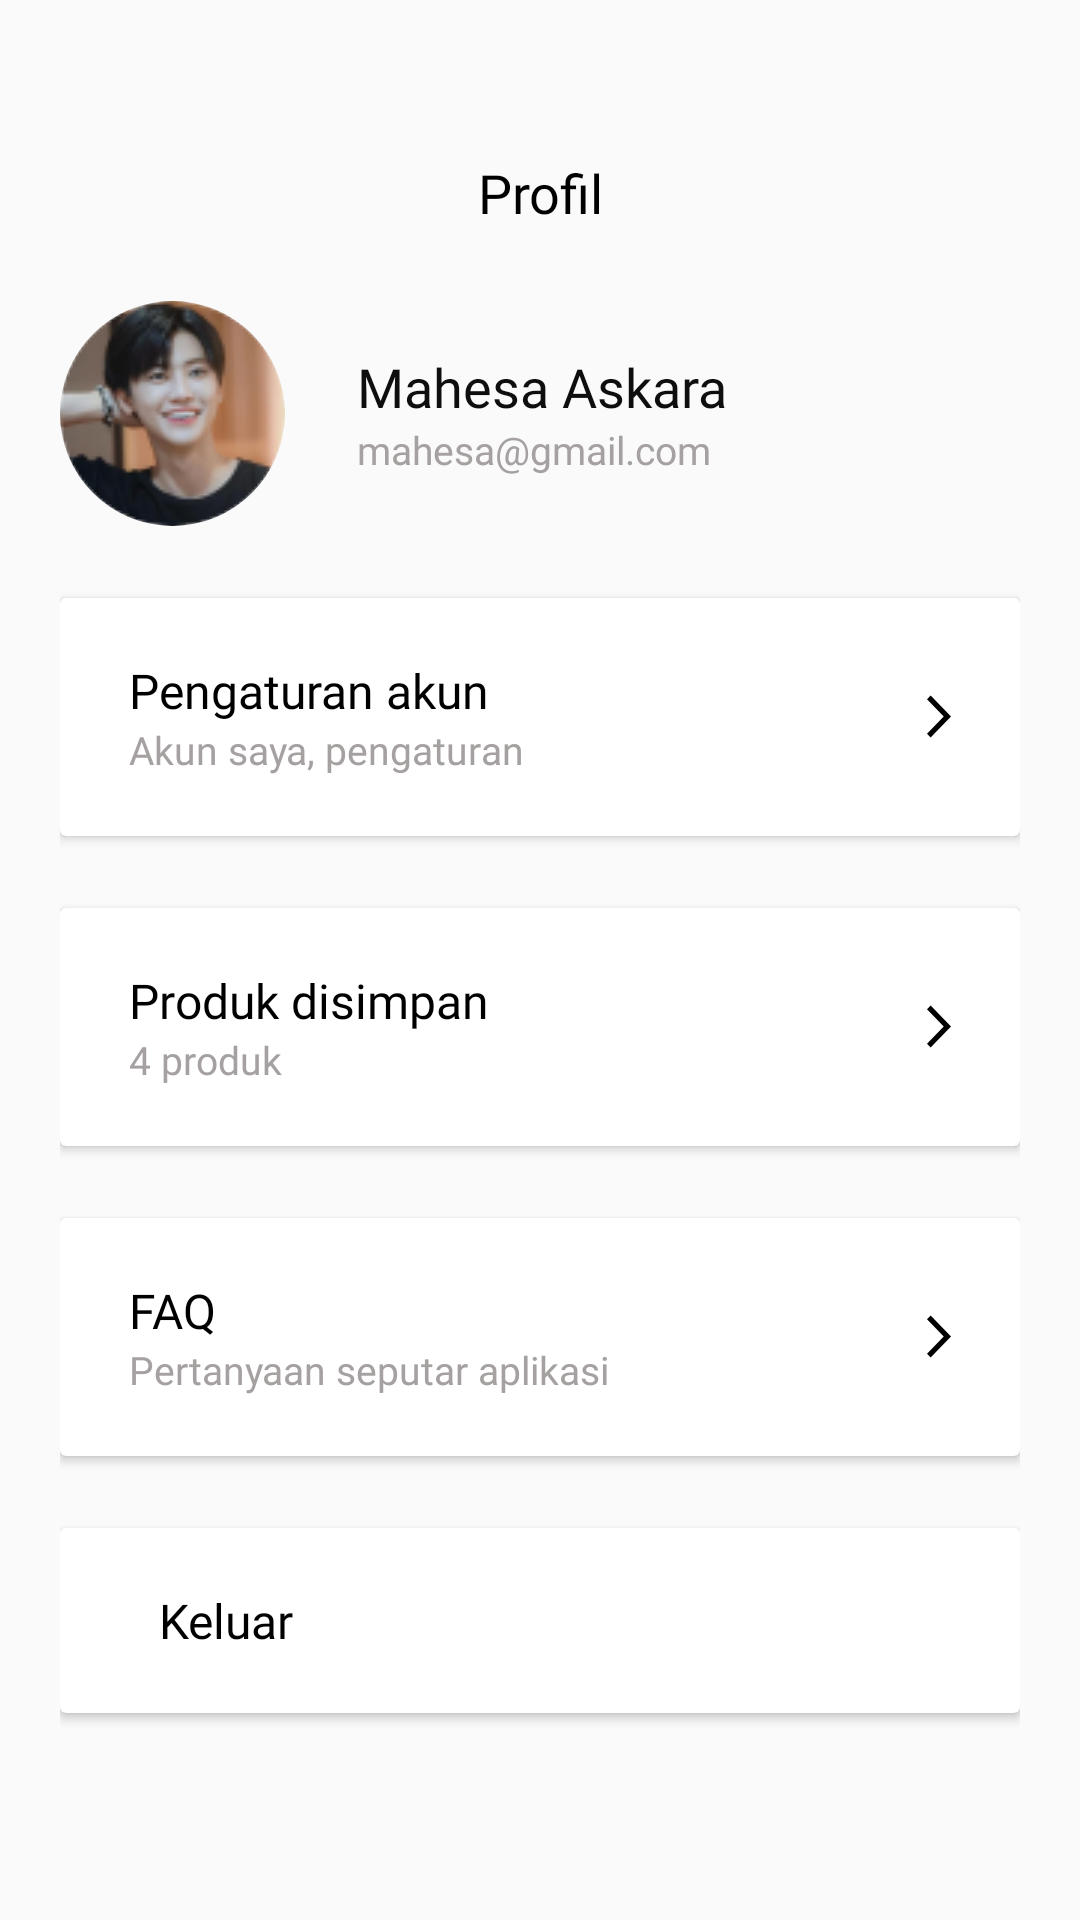

Screen size 1080×1920. Icon name, then its center in pixels as point (x, y):
next: point (939, 716), point (939, 1026), point (939, 1336)
